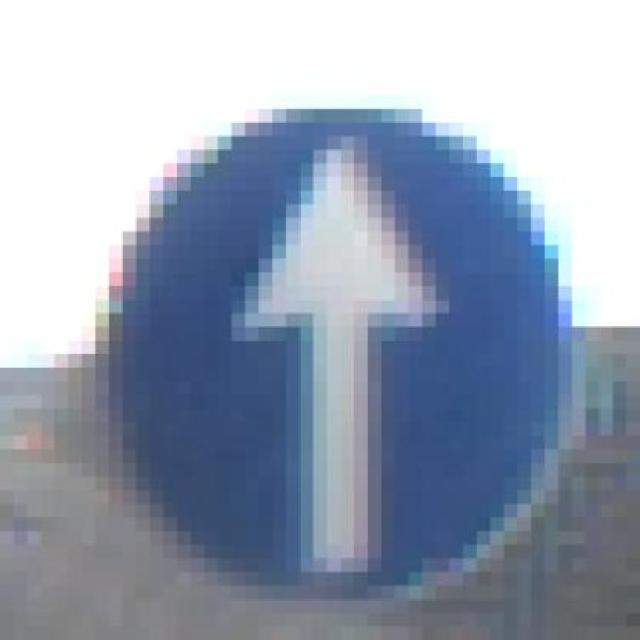Straight Ahead Only: (82, 82, 612, 612)
